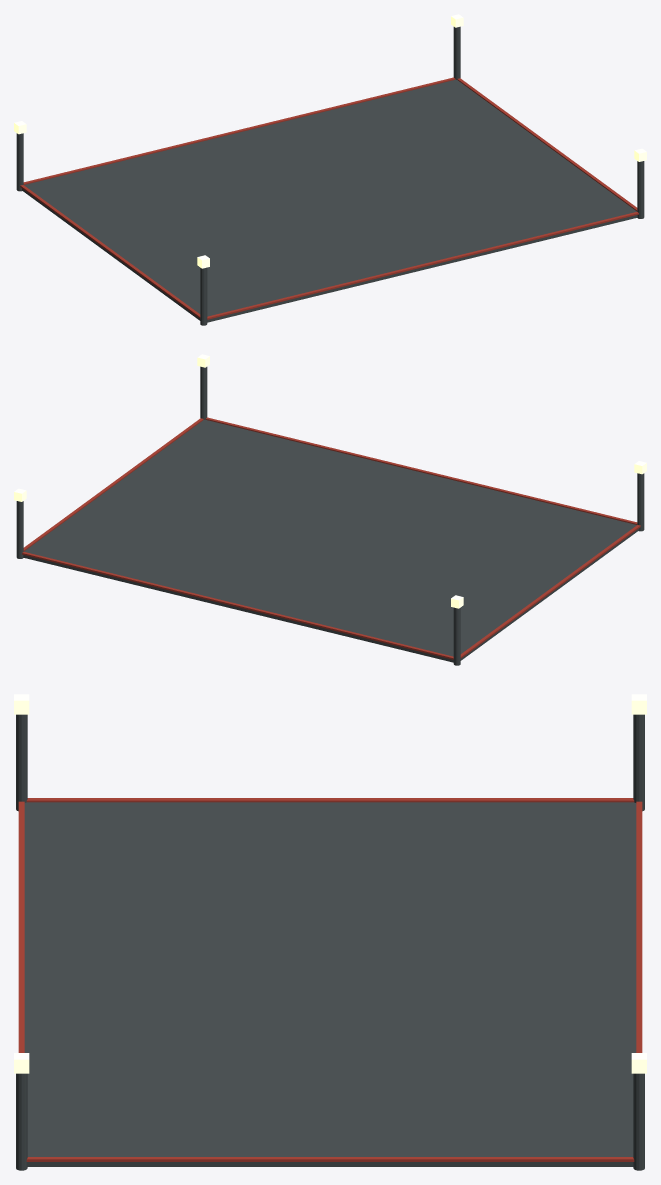
The model's file is Refuge_Reference_Arene_PVP.fbx.
The picture shows the model from 3 angles, top to bottom: view 1: azimuth 30°, elevation 25°; view 2: azimuth 150°, elevation 25°; view 3: azimuth 270°, elevation 25°; orthographic projection. The views are drawn at different scales.
Visible parts, largest first — view 1: Refuge_Reference_Arene_PVP_iron, Refuge_Reference_Arene_PVP_red, Refuge_Reference_Arene_PVP_glow; view 2: Refuge_Reference_Arene_PVP_iron, Refuge_Reference_Arene_PVP_red, Refuge_Reference_Arene_PVP_glow; view 3: Refuge_Reference_Arene_PVP_iron, Refuge_Reference_Arene_PVP_red, Refuge_Reference_Arene_PVP_glow.
Part boxes in pixels (x1,y1,x2,y2): Refuge_Reference_Arene_PVP_iron: (16,26,644,325); Refuge_Reference_Arene_PVP_red: (20,77,638,319); Refuge_Reference_Arene_PVP_glow: (14,14,646,268); Refuge_Reference_Arene_PVP_iron: (16,366,644,665); Refuge_Reference_Arene_PVP_red: (22,417,640,659); Refuge_Reference_Arene_PVP_glow: (14,354,646,608); Refuge_Reference_Arene_PVP_iron: (16,714,644,1170); Refuge_Reference_Arene_PVP_red: (18,798,642,1161); Refuge_Reference_Arene_PVP_glow: (14,694,646,1073).
Bounding box in the file's own units: 44.8 × 6.4 × 32.8.
